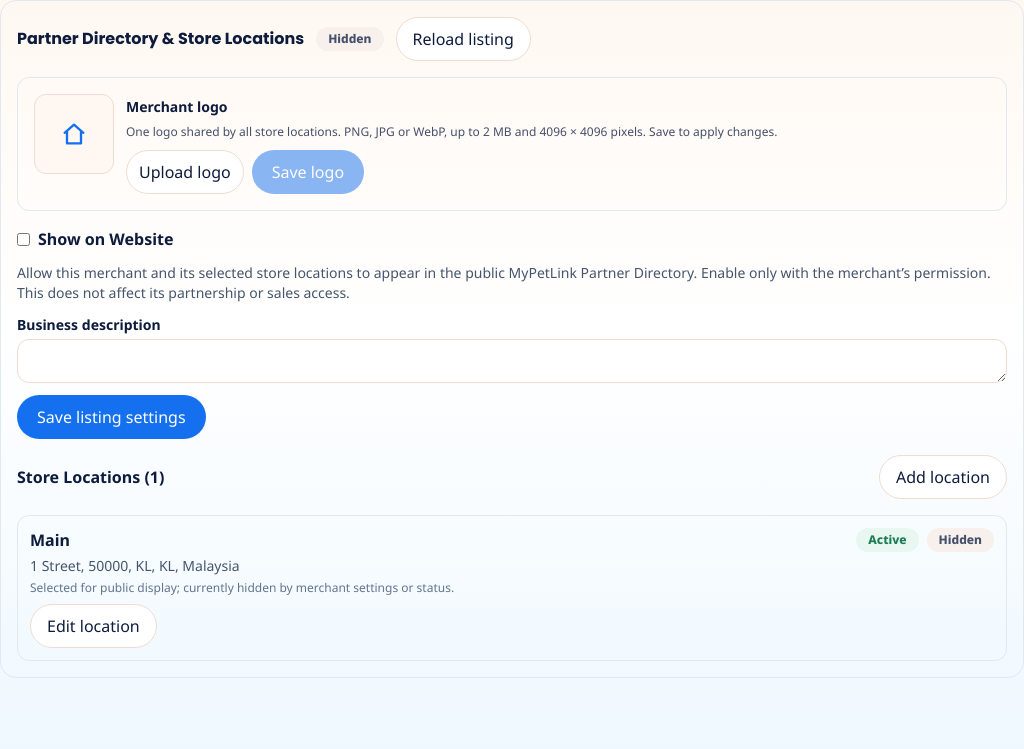
Test case: Merchant listing management › requires explicit confirmation for publishing without changing sales fields
Expected: the heading "Main" is shown, x1=30 y1=528 x2=70 y2=552
Click the checkbox labelled "Show on Website" at coordinates (24, 239), box x1=17 y1=232 x2=30 y2=246
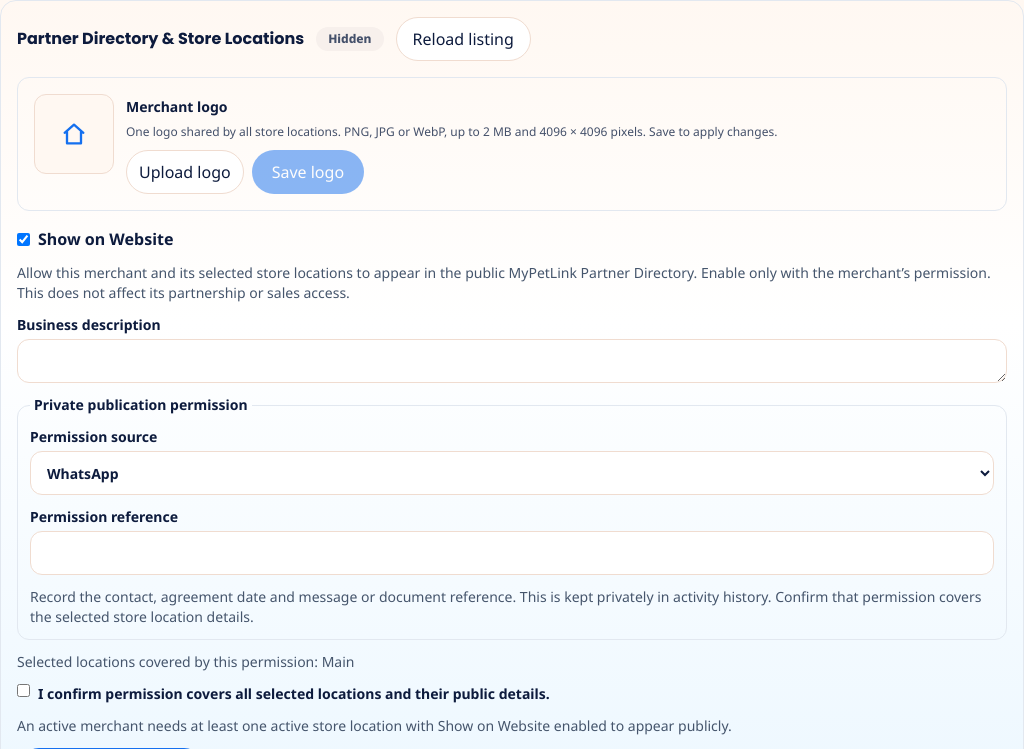
Type "Owner WhatsApp agreement 13 Oct" into the field labelled "Permission reference" at coordinates (512, 553), box x1=30 y1=531 x2=994 y2=575
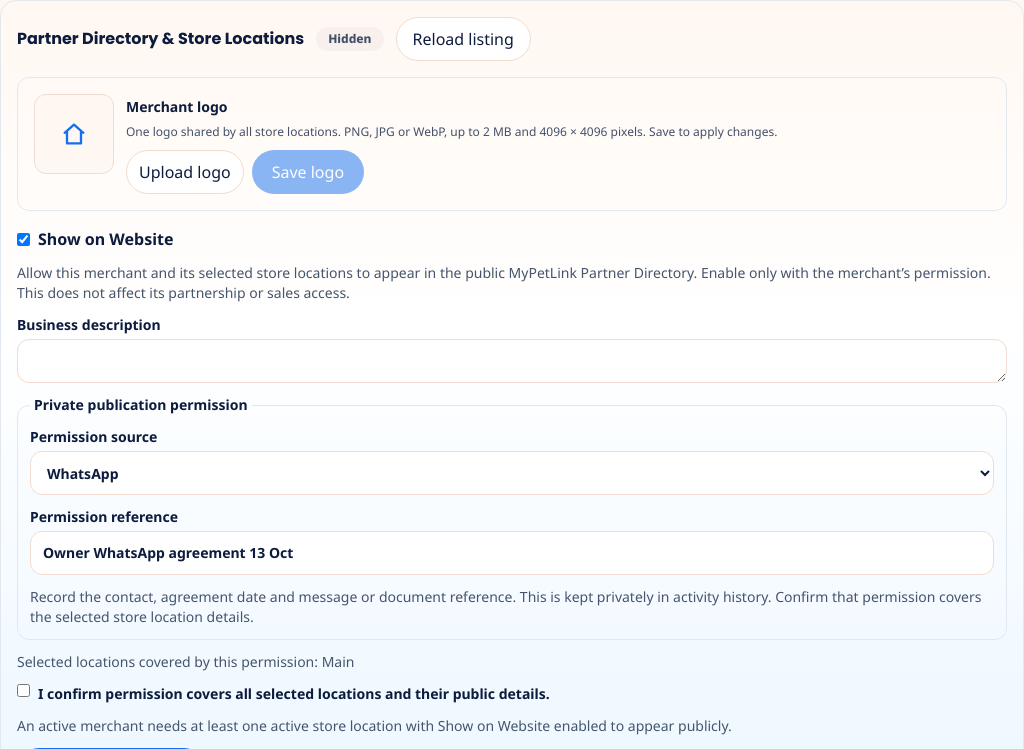
Click the checkbox labelled "I confirm permission" at coordinates (24, 690), box x1=17 y1=684 x2=30 y2=697
(page scrolled)
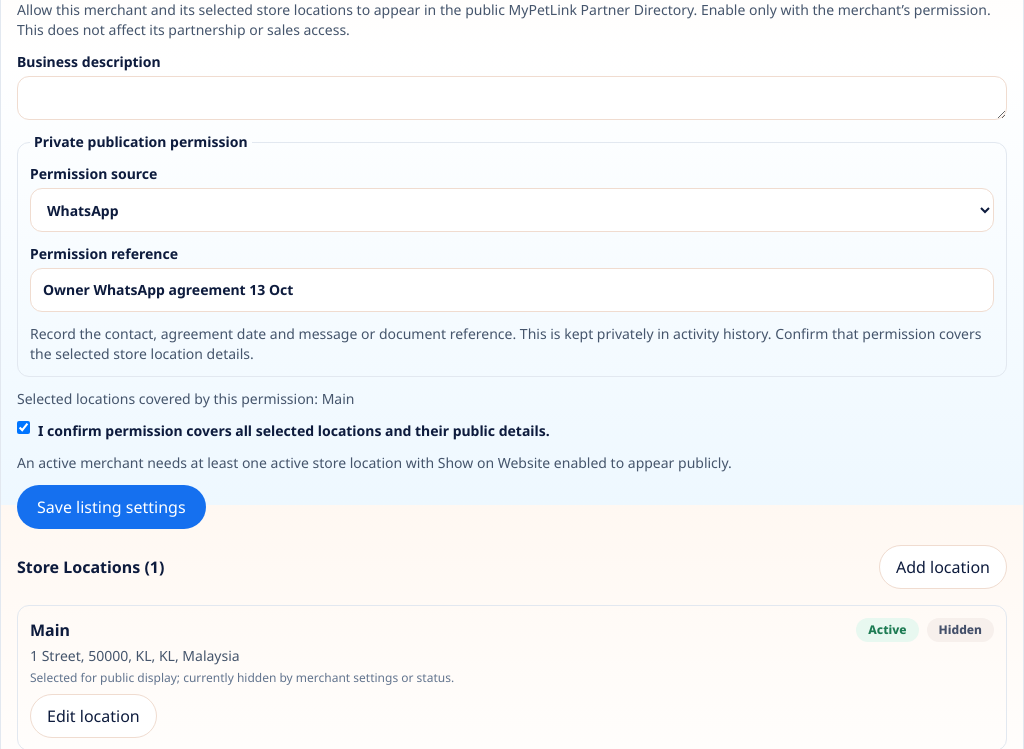
Click the button "Save listing settings" at coordinates (111, 507), box x1=17 y1=485 x2=206 y2=529
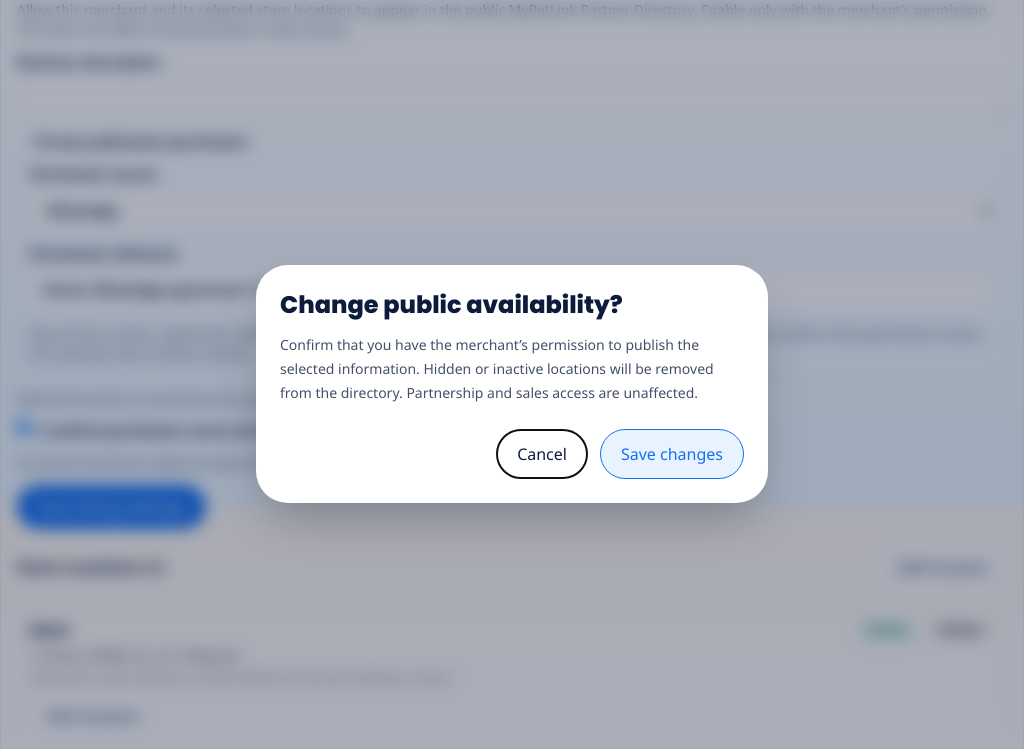
Click the button "Save changes" at coordinates (672, 454), box x1=600 y1=429 x2=744 y2=479
(page scrolled)
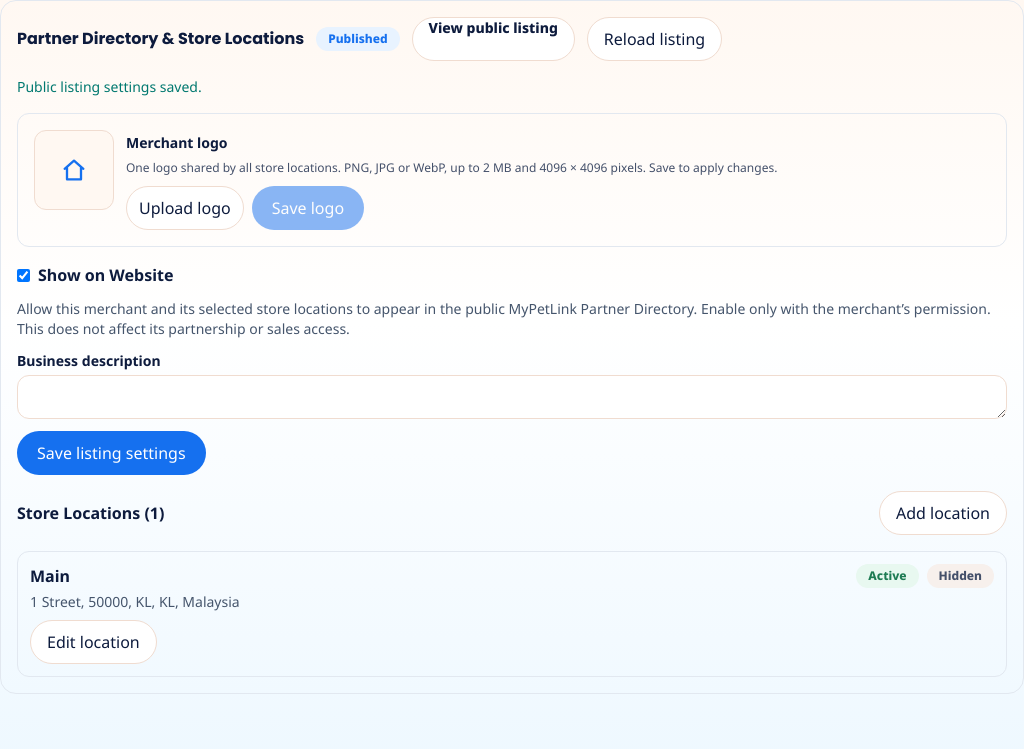
Now the link "View public listing" is shown, box x1=412 y1=17 x2=575 y2=61
